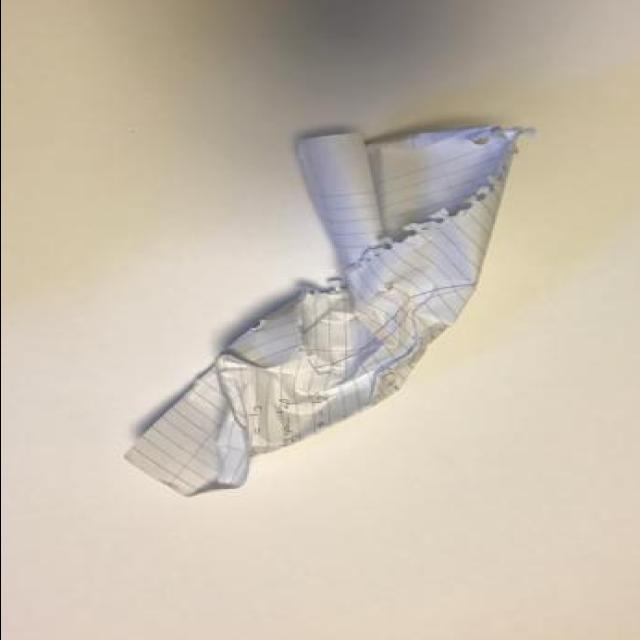kertas: (122, 126, 530, 499)
